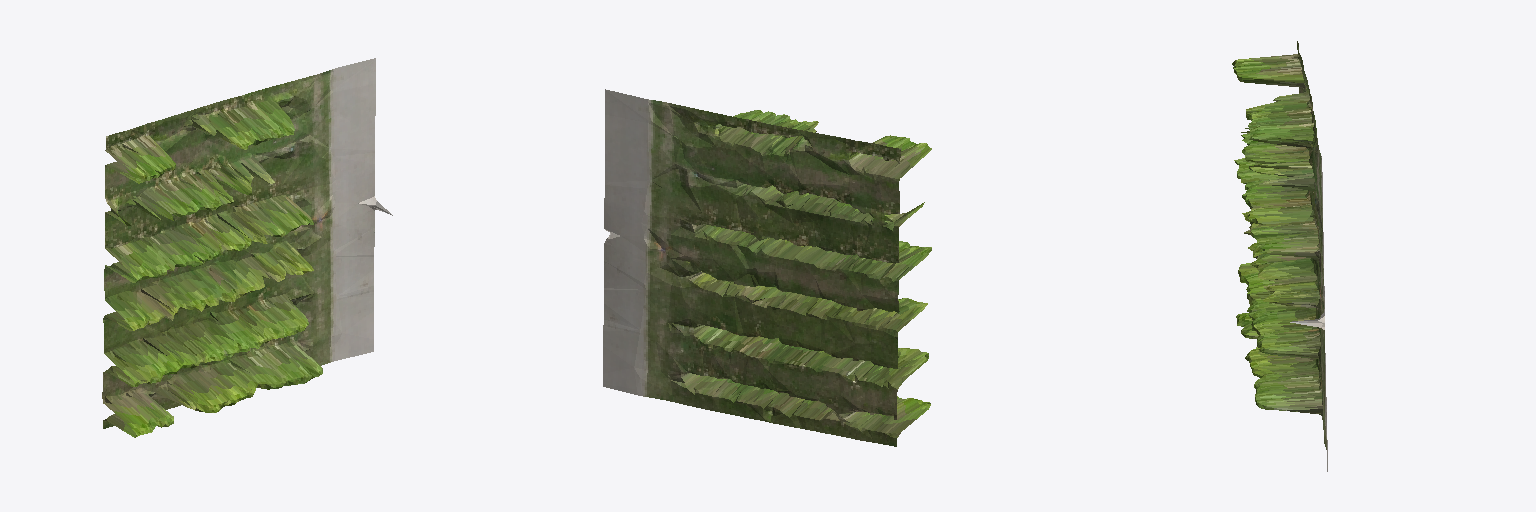
3 views of the same model, side by side, from view 1: azimuth 30°, elevation 25°; view 2: azimuth 150°, elevation 25°; view 3: azimuth 270°, elevation 25° (orthographic).
Visible parts, largest first — view 1: grp1; view 2: grp1; view 3: grp1.
Part boxes in pixels (bbox=[...]): grp1: bbox=[102, 58, 392, 437]; grp1: bbox=[603, 89, 931, 446]; grp1: bbox=[1232, 41, 1327, 471].
Bounding box in the file's own units: 10 × 10 × 2.94.
Materials: 1 (1 with a texture image).